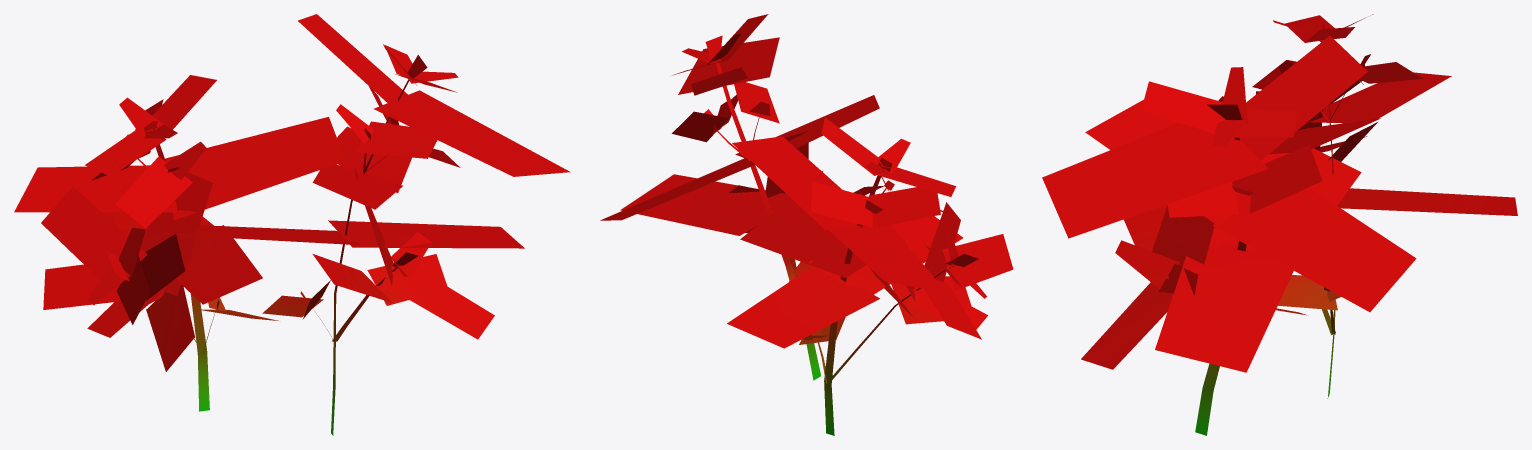
The model's file is Common Hemp Nettle_LOD6_Var3_xh1kdfbqx.fbx.
3 views of the same model, side by side, from view 1: azimuth 30°, elevation 25°; view 2: azimuth 150°, elevation 25°; view 3: azimuth 270°, elevation 25° (orthographic). The views are drawn at different scales.
Parts seen in each view (by area): view 1: _rd9j_Var3_LOD6; view 2: _rd9j_Var3_LOD6; view 3: _rd9j_Var3_LOD6.
Part boxes in pixels (box(x1,y1,x2,y2)): _rd9j_Var3_LOD6: box(14, 14, 570, 435); _rd9j_Var3_LOD6: box(600, 14, 1013, 435); _rd9j_Var3_LOD6: box(1042, 14, 1517, 435).
Bounding box in the file's own units: 61.23 × 51.08 × 53.45.
